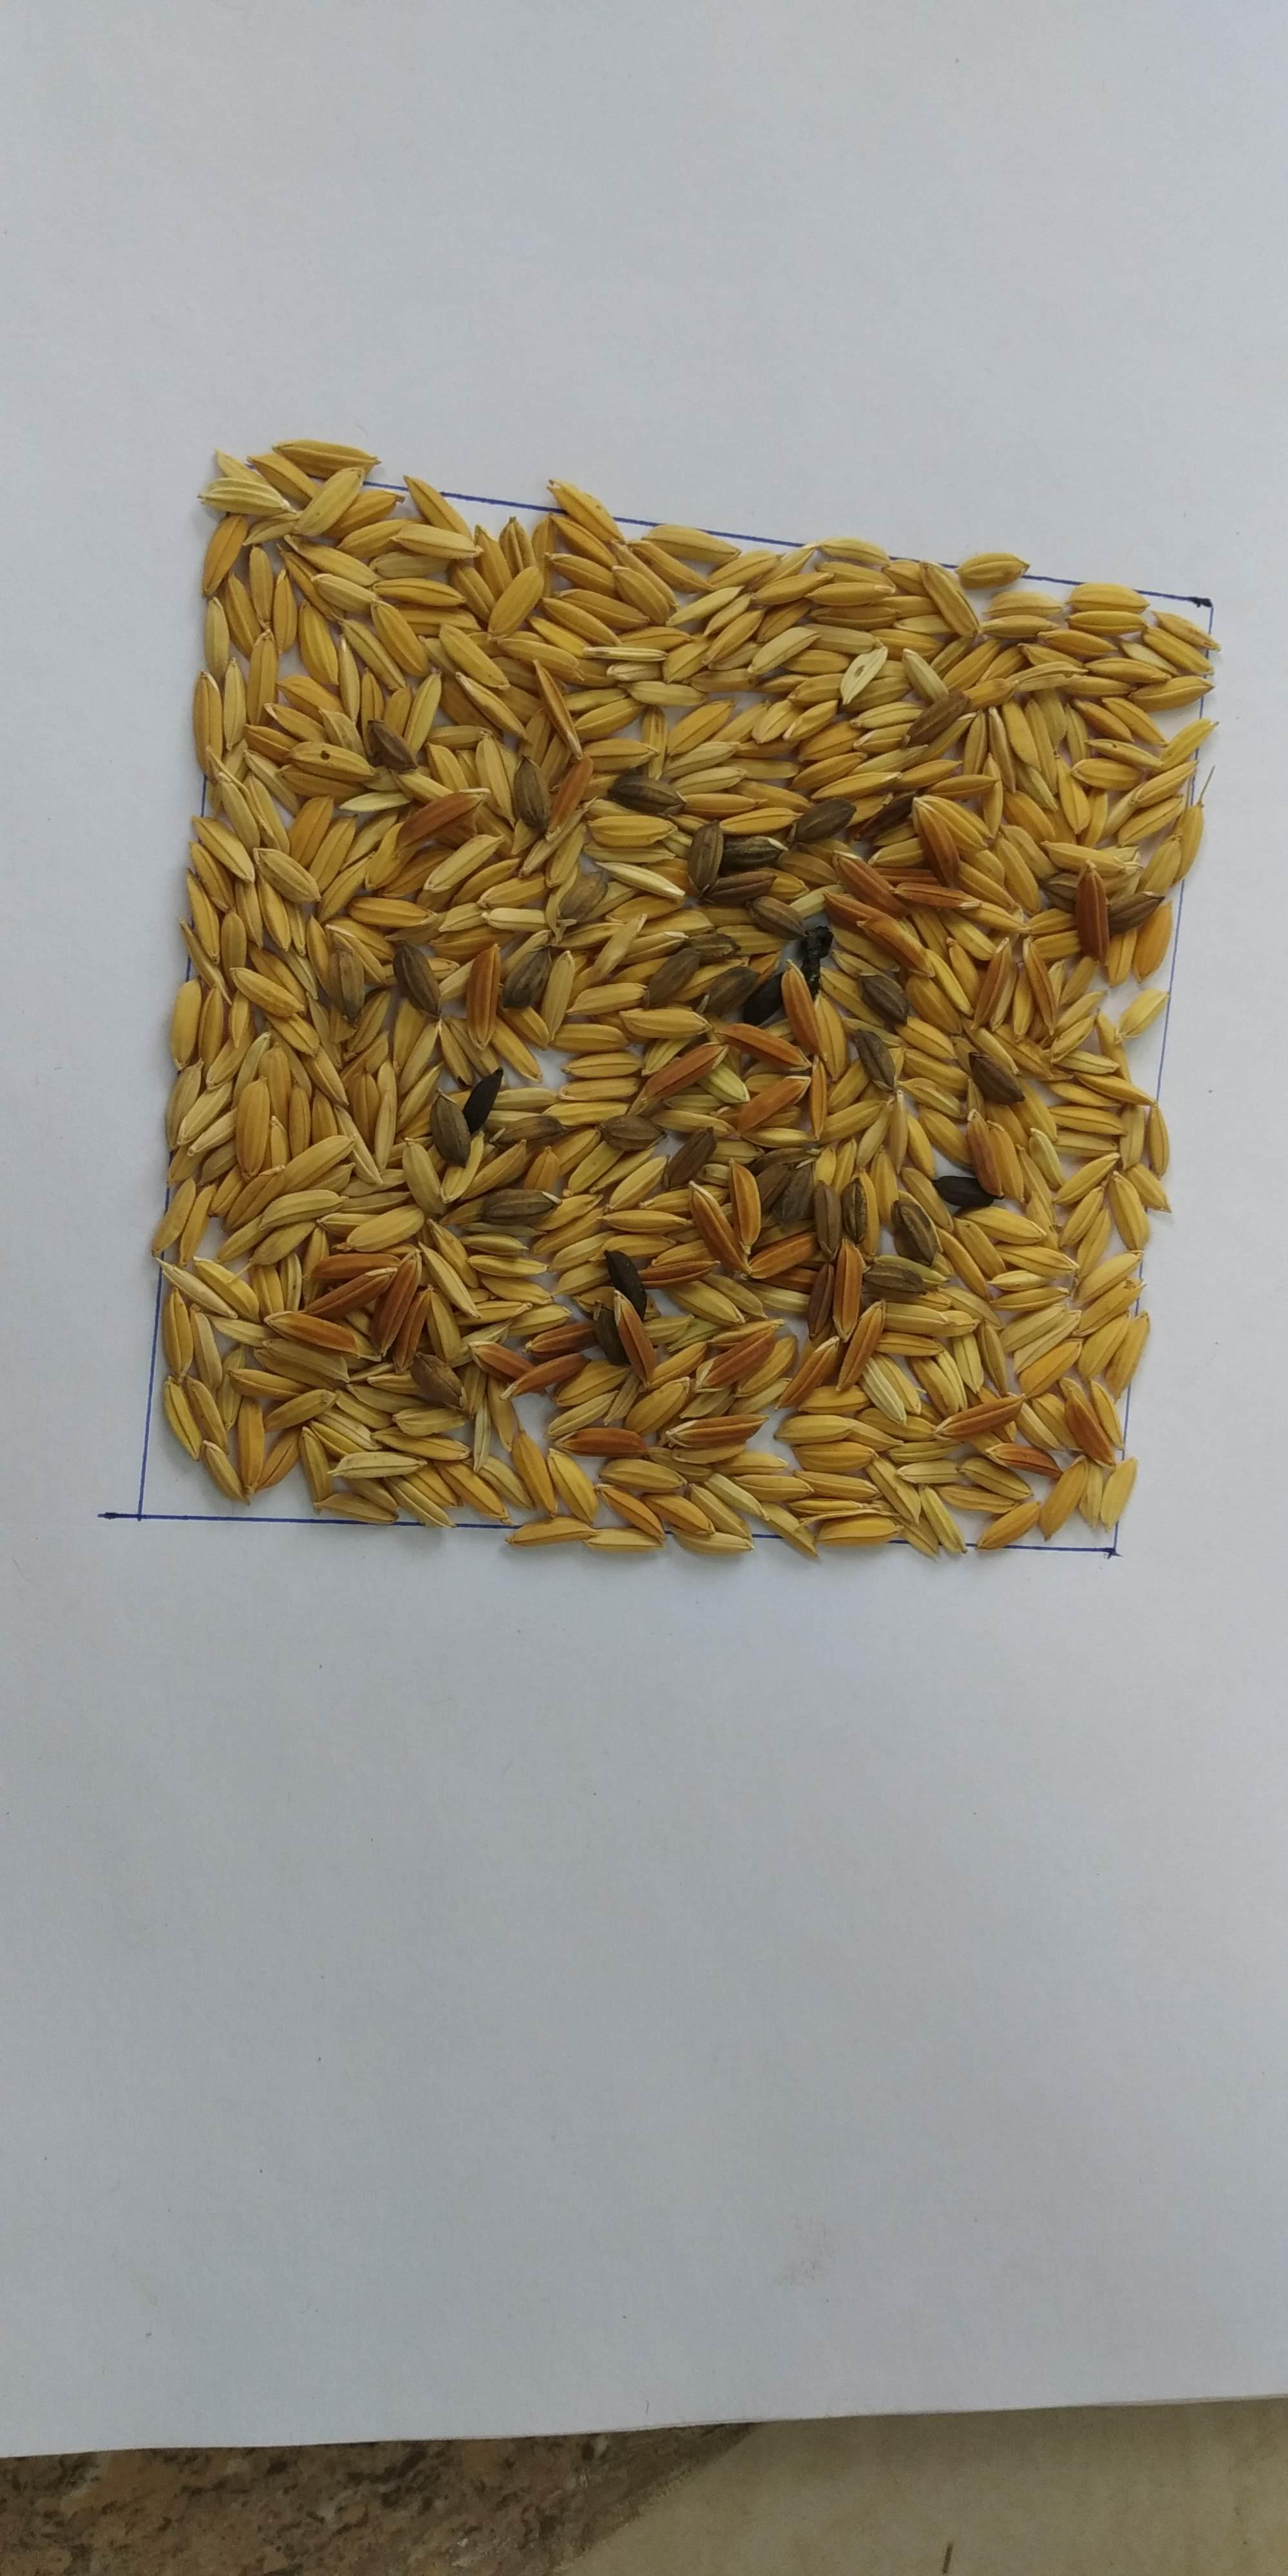impure: (220, 593, 1089, 1485)
